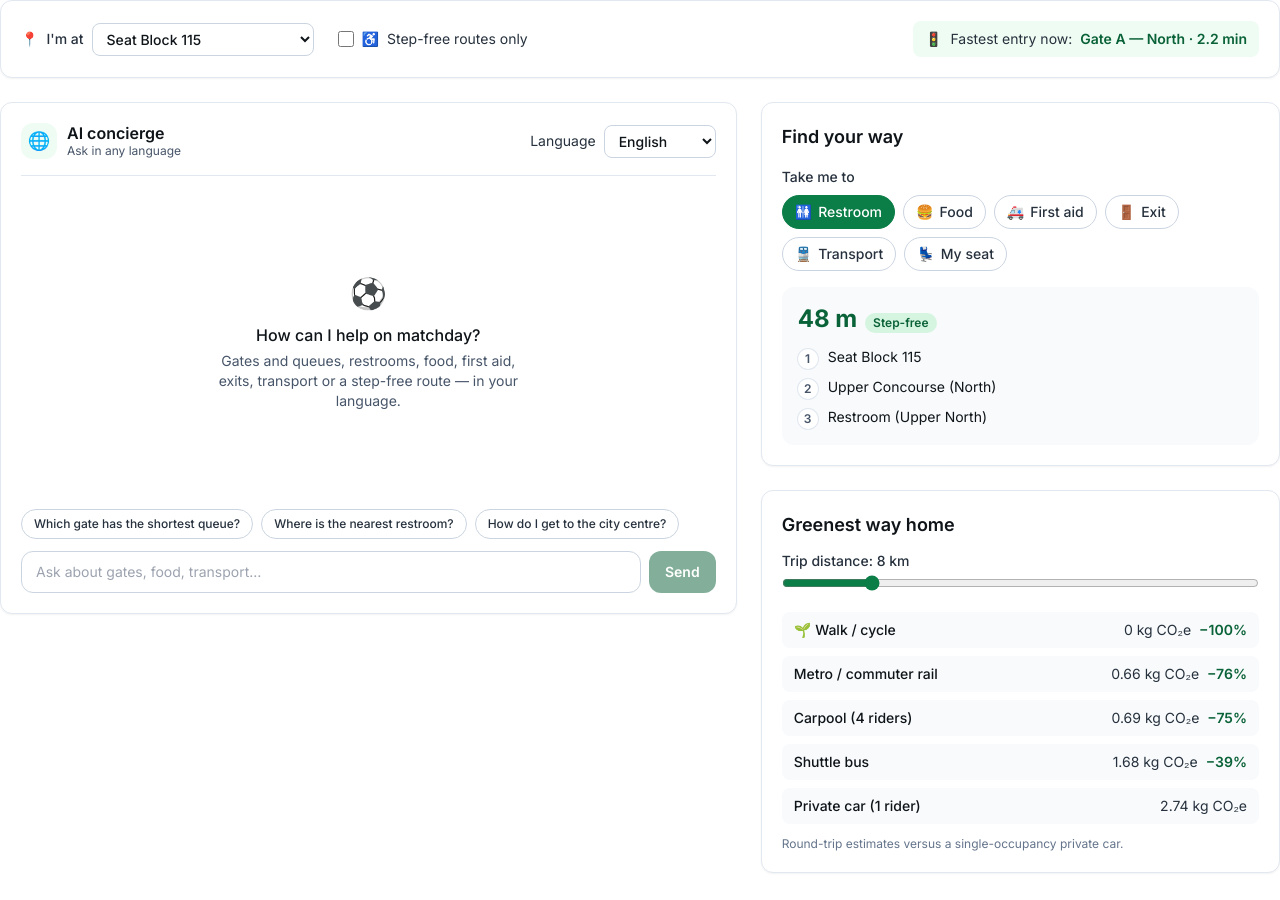
Test case: ConciergeChat — offline behaviour › honours step-free routing even in the offline fallback
What coordinates should you click on to do the following:
click the checkbox labelled "♿ Step-free routes only"
I would click on:
 (346, 39)
Its box is top-left (338, 31), bottom-right (354, 47).
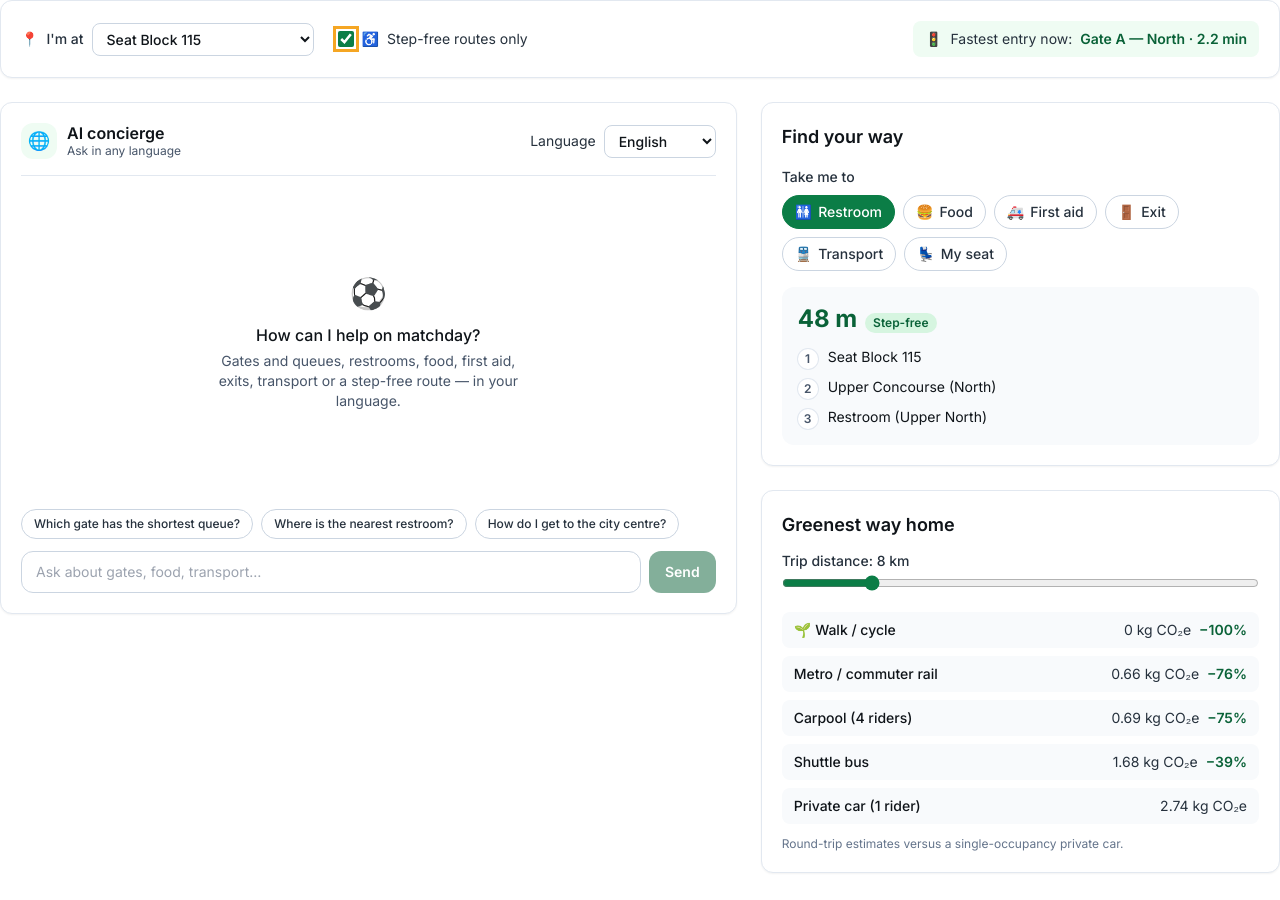
What coordinates should you click on to do the following:
click the button "Where is the nearest restroom?"
I would click on:
 (364, 524)
Its box is top-left (261, 509), bottom-right (467, 539).
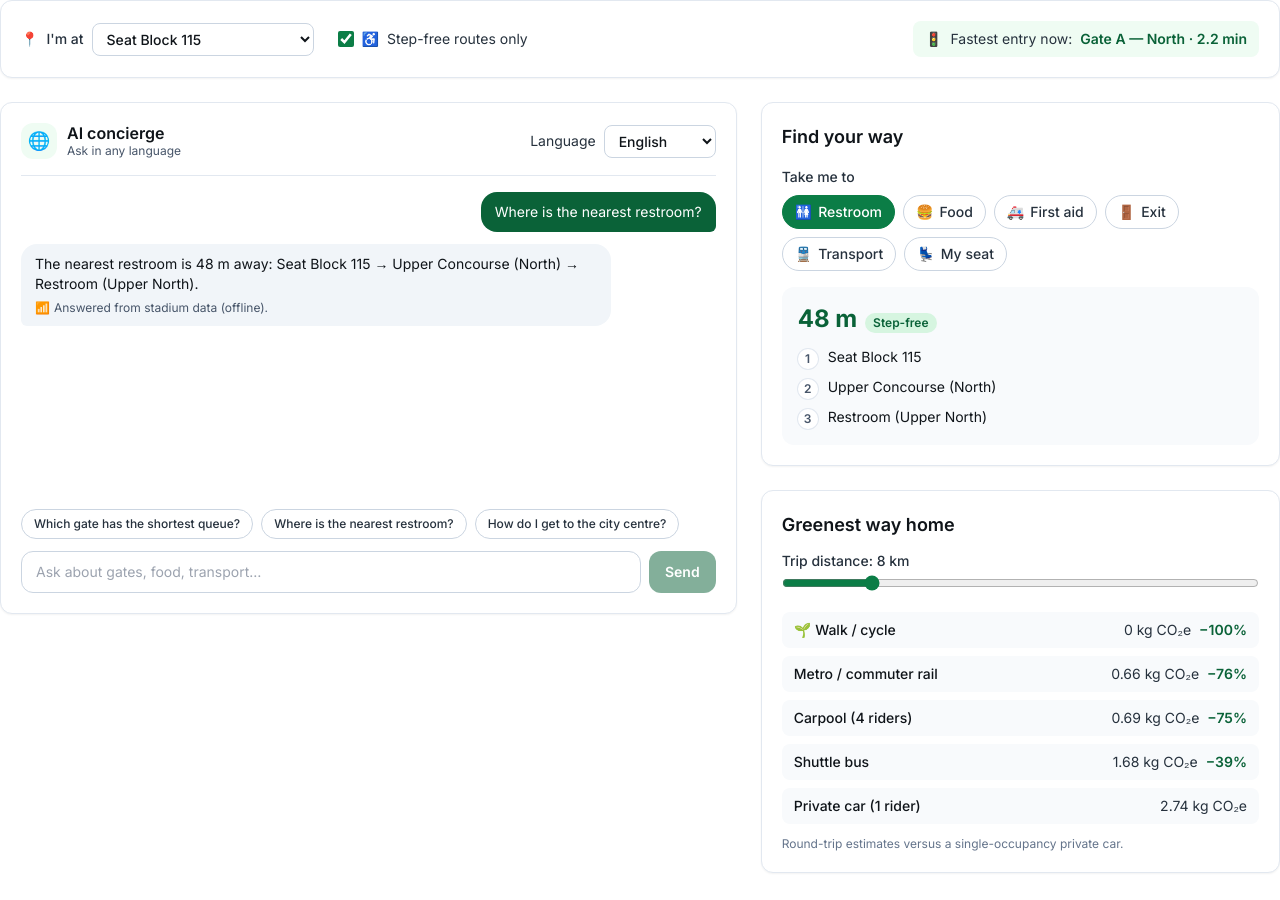
Result: the text "Restroom (Upper North)" is shown at top-left (35, 255), bottom-right (579, 292)
